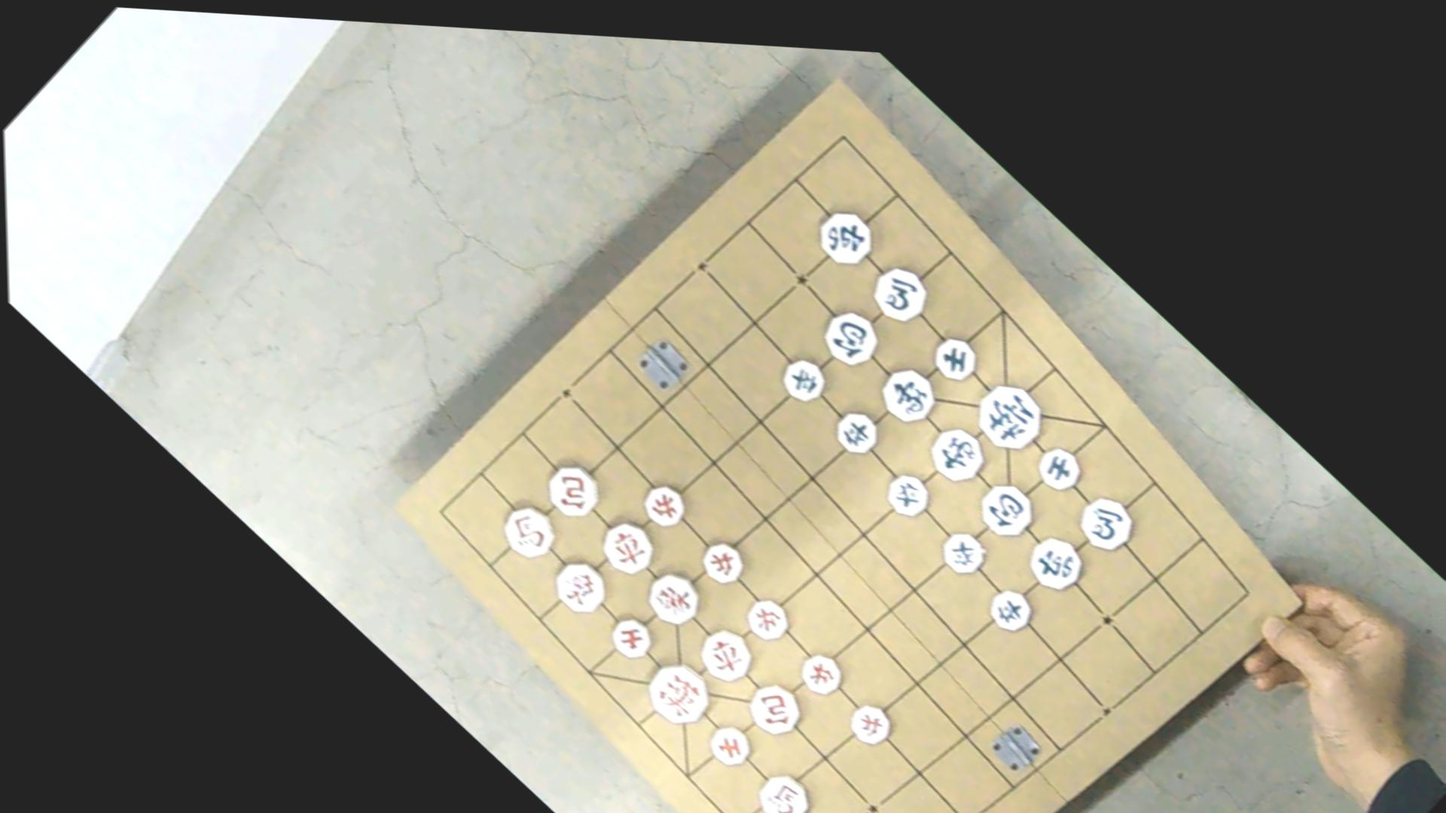cha_green: (1020, 527, 1092, 601), (809, 201, 881, 275)
cha_red: (593, 512, 664, 583), (691, 620, 761, 691)
jol_green: (879, 465, 937, 525), (774, 351, 832, 410), (828, 403, 886, 462), (982, 582, 1039, 639), (935, 525, 991, 582)
jol_red: (636, 477, 693, 534), (694, 534, 751, 591), (843, 696, 899, 754), (793, 646, 849, 702), (740, 592, 795, 648)
ma_green: (865, 257, 937, 331), (1070, 486, 1142, 560)
ma_red: (493, 495, 564, 568), (750, 765, 819, 813)
po_green: (815, 300, 887, 375), (970, 474, 1042, 547)
po_red: (538, 455, 609, 526), (740, 674, 810, 745)
sa_green: (926, 330, 984, 388), (1031, 440, 1087, 497)
sa_red: (603, 609, 660, 666), (702, 717, 758, 774)
sang_green: (871, 358, 946, 434), (920, 418, 994, 494)
sang_red: (638, 562, 711, 636), (545, 551, 616, 623)
wang_green: (964, 371, 1055, 464)
wang_red: (636, 650, 721, 736)
